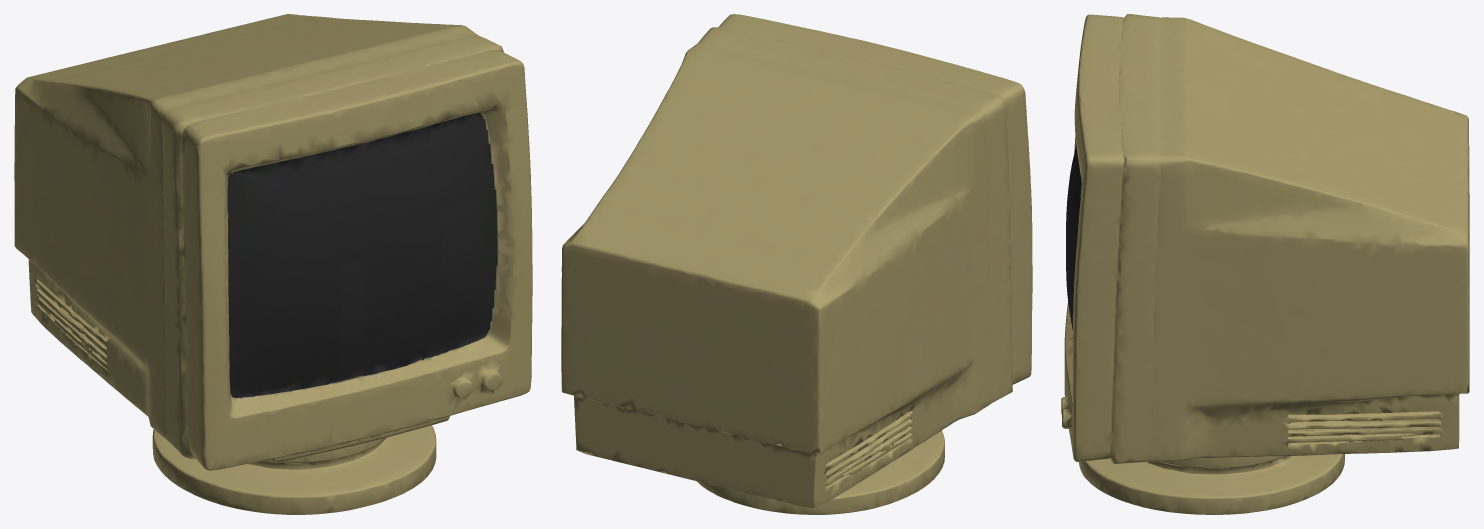
Rendered from crt_monitor_beige.glb.
3 views of the same model, side by side, from view 1: azimuth 30°, elevation 25°; view 2: azimuth 150°, elevation 25°; view 3: azimuth 270°, elevation 25° (orthographic). The views are drawn at different scales.
Parts seen in each view (by area): view 1: world; view 2: world; view 3: world.
Part boxes in pixels (x1=…): world: x1=14, y1=14, x2=532, y2=514; world: x1=561, y1=14, x2=1032, y2=514; world: x1=1061, y1=14, x2=1469, y2=514.
Bounding box in the file's own units: 0.856 × 1 × 0.9871.
Materials: 1 (1 with a texture image).
